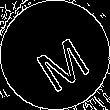M_NW: (22, 21, 88, 89)
